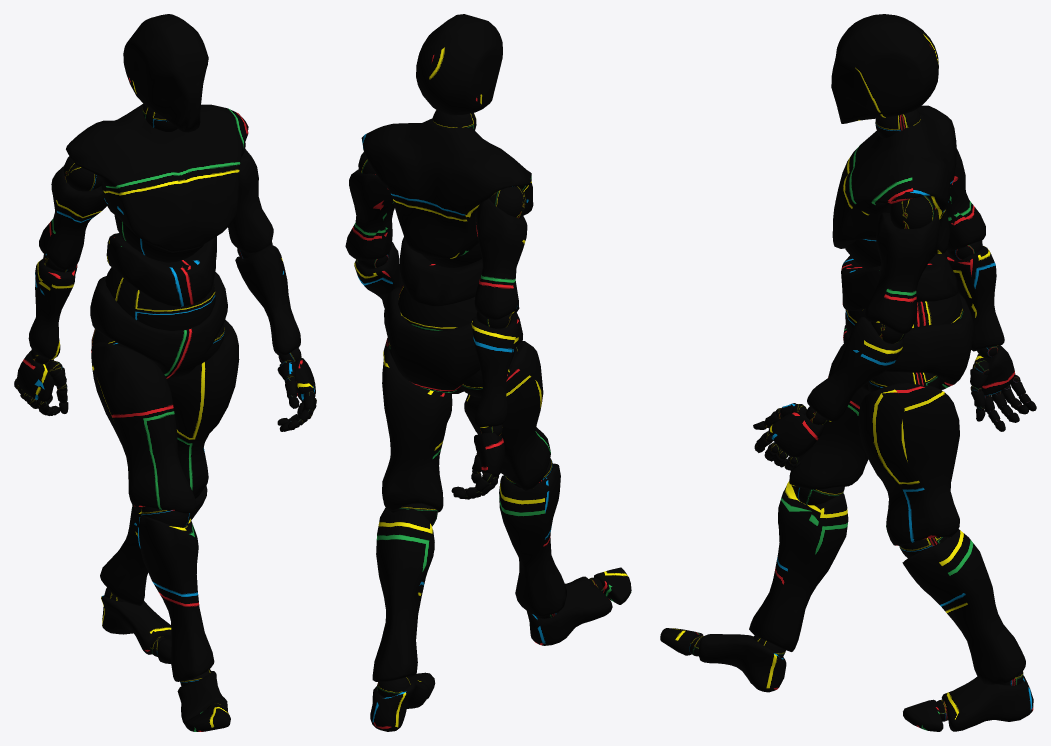
The model's file is y-bot-origin_000003.obj.
3 renders of one model, left to right at view 1: azimuth 30°, elevation 25°; view 2: azimuth 150°, elevation 25°; view 3: azimuth 270°, elevation 25°, orthographic. The views are drawn at different scales.
Parts seen in each view (by area): view 1: Alpha_Surface_Alpha_SurfaceMesh, Alpha_Joints_Alpha_JointsMesh; view 2: Alpha_Surface_Alpha_SurfaceMesh, Alpha_Joints_Alpha_JointsMesh; view 3: Alpha_Surface_Alpha_SurfaceMesh, Alpha_Joints_Alpha_JointsMesh.
Part boxes in pixels (bbox=[...]): Alpha_Surface_Alpha_SurfaceMesh: bbox=[14, 14, 316, 731]; Alpha_Joints_Alpha_JointsMesh: bbox=[14, 104, 316, 708]; Alpha_Surface_Alpha_SurfaceMesh: bbox=[345, 14, 631, 731]; Alpha_Joints_Alpha_JointsMesh: bbox=[356, 110, 603, 697]; Alpha_Surface_Alpha_SurfaceMesh: bbox=[660, 14, 1036, 731]; Alpha_Joints_Alpha_JointsMesh: bbox=[689, 109, 1029, 721].
Size of the model in its own units: 0.5549 by 1.76 by 0.8664.
